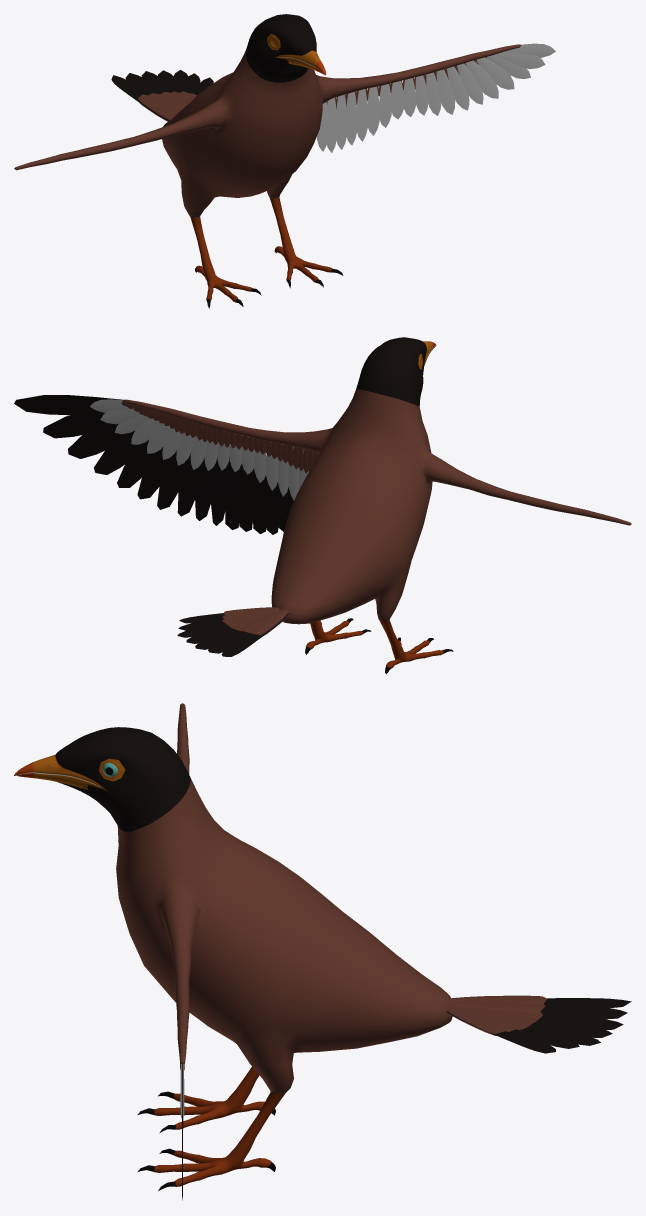
The model's file is myna.obj.
3 renders of one model, top to bottom at view 1: azimuth 30°, elevation 25°; view 2: azimuth 150°, elevation 25°; view 3: azimuth 270°, elevation 25°, orthographic. The views are drawn at different scales.
Parts seen in each view (by area): view 1: myna, feather_flight_secondary_015, feather_flight_secondary_016, feather_flight_secondary_013, feather_flight_secondary_012, feather_flight_secondary_014, feather_flight_secondary_018, feather_flight_secondary_003, feather_flight_secondary_006, feather_flight_secondary_004, feather_flight_secondary_005, feather_flight_secondary_002 (+6 smaller); view 2: myna, feather_flight_primary_019_Plane.016, feather_flight_primary_018_Plane.118, feather_flight_primary_017_Plane.117, feather_flight_primary_016_Plane.116, feather_flight_primary_013_Plane.113, feather_flight_primary_009_Plane.109, feather_flight_primary_015_Plane.115, feather_flight_primary_010_Plane.110, feather_flight_primary_012_Plane.112, feather_flight_primary_014_Plane.001, feather_flight_primary_008_Plane.000 (+4 smaller); view 3: myna, feather_tail_primary_006, feather_tail_primary_007, feather_tail_secondary_006, feather_tail_primary_001.
Boxes of the visible parts, x1=… form: myna: x1=14, y1=14, x2=520, y2=308; feather_flight_secondary_015: x1=466, y1=60, x2=498, y2=98; feather_flight_secondary_016: x1=477, y1=57, x2=514, y2=89; feather_flight_secondary_013: x1=447, y1=66, x2=469, y2=110; feather_flight_secondary_012: x1=437, y1=69, x2=455, y2=114; feather_flight_secondary_014: x1=457, y1=63, x2=483, y2=104; feather_flight_secondary_018: x1=494, y1=52, x2=545, y2=69; feather_flight_secondary_003: x1=336, y1=94, x2=346, y2=149; feather_flight_secondary_006: x1=367, y1=86, x2=379, y2=135; feather_flight_secondary_004: x1=346, y1=92, x2=357, y2=145; feather_flight_secondary_005: x1=357, y1=89, x2=367, y2=141; feather_flight_secondary_002: x1=327, y1=97, x2=336, y2=152; myna: x1=124, y1=337, x2=631, y2=674; feather_flight_primary_019_Plane.016: x1=14, y1=395, x2=123, y2=415; feather_flight_primary_018_Plane.118: x1=43, y1=410, x2=118, y2=438; feather_flight_primary_017_Plane.117: x1=68, y1=422, x2=134, y2=458; feather_flight_primary_016_Plane.116: x1=94, y1=431, x2=148, y2=474; feather_flight_primary_013_Plane.113: x1=157, y1=453, x2=190, y2=509; feather_flight_primary_009_Plane.109: x1=225, y1=457, x2=242, y2=529; feather_flight_primary_015_Plane.115: x1=117, y1=440, x2=163, y2=487; feather_flight_primary_010_Plane.110: x1=210, y1=446, x2=230, y2=525; feather_flight_primary_012_Plane.112: x1=177, y1=435, x2=204, y2=516; feather_flight_primary_014_Plane.001: x1=137, y1=421, x2=188, y2=499; feather_flight_primary_008_Plane.000: x1=239, y1=464, x2=254, y2=531; myna: x1=14, y1=703, x2=452, y2=1190; feather_tail_primary_006: x1=540, y1=1006, x2=627, y2=1019; feather_tail_primary_007: x1=544, y1=998, x2=631, y2=1008; feather_tail_secondary_006: x1=451, y1=1001, x2=545, y2=1013; feather_tail_primary_001: x1=446, y1=1011, x2=555, y2=1053.
Bounding box in the file's own units: 0.47 × 0.2061 × 0.2802.
